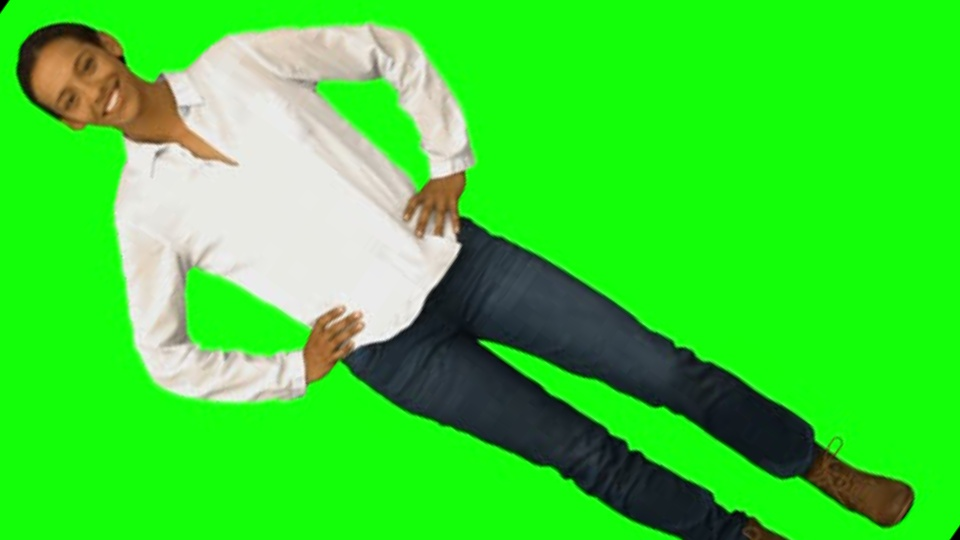arm: (81, 237, 290, 412), (195, 17, 459, 123)
chest: (163, 122, 433, 294)
face: (8, 32, 154, 126)
foot: (803, 451, 914, 522)
hand: (301, 307, 364, 381), (411, 166, 467, 241)
leg: (361, 320, 738, 531), (467, 231, 801, 460)
